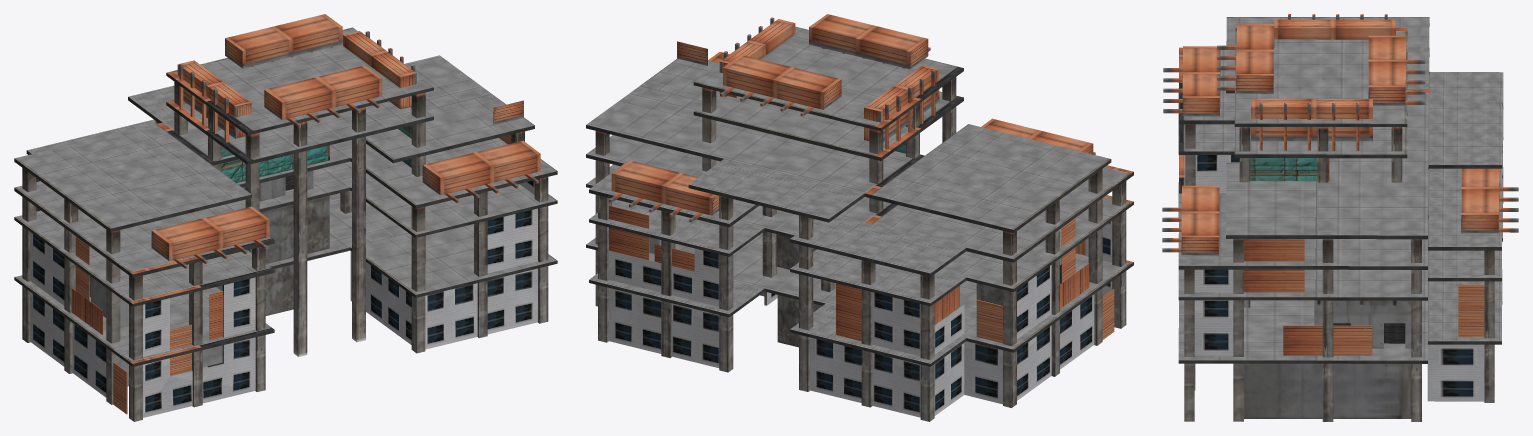
The model's file is construction_site.glb.
3 renders of one model, left to right at view 1: azimuth 30°, elevation 25°; view 2: azimuth 150°, elevation 25°; view 3: azimuth 270°, elevation 25°, orthographic. The views are drawn at different scales.
Visible parts, largest first — view 1: construction building; view 2: construction building; view 3: construction building.
Boxes of the visible parts, x1,y1,x2,y2 form: construction building: (14,14,557,421); construction building: (586,14,1133,421); construction building: (1162,14,1518,421).
Bounding box in the file's own units: 30.51 × 17.83 × 21.
1 material, 1 textured.
